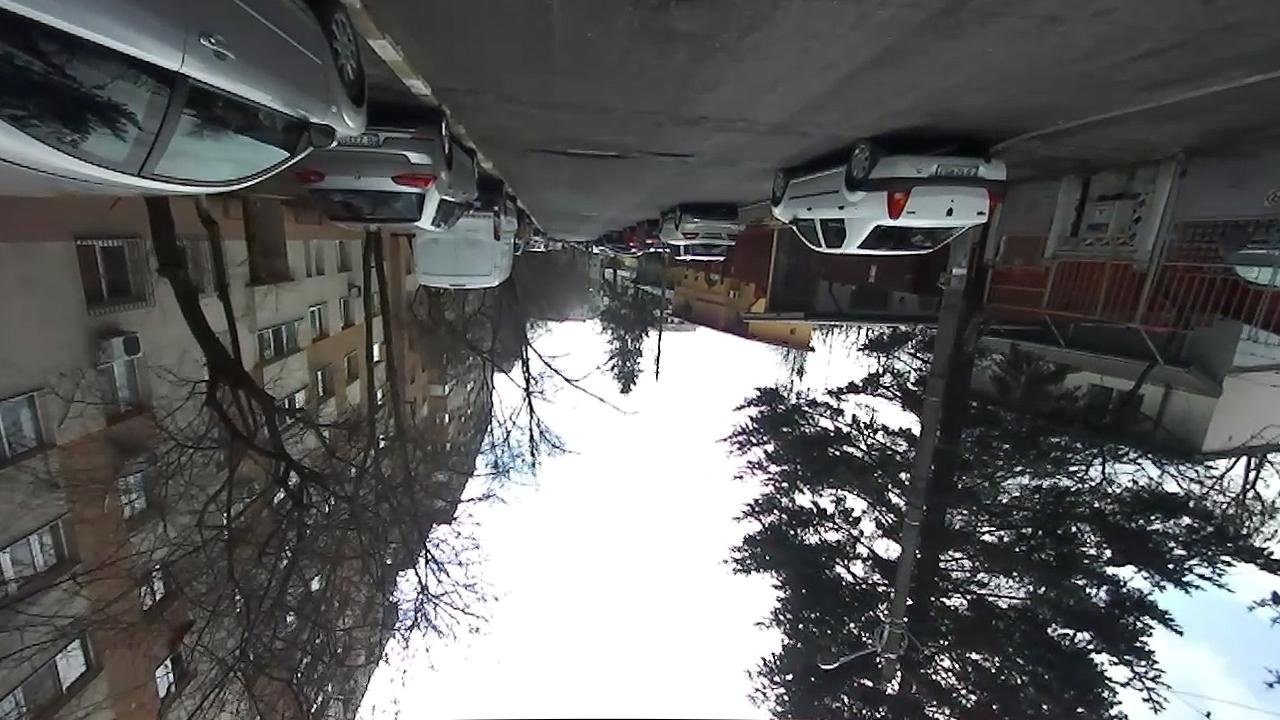pothole: (540, 146, 621, 159), (650, 150, 691, 157)
